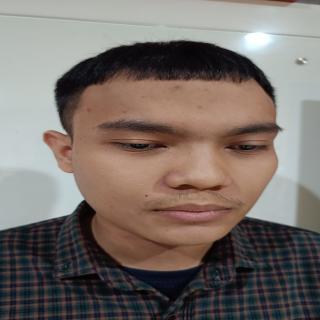Sedih: (62, 68, 291, 253)
